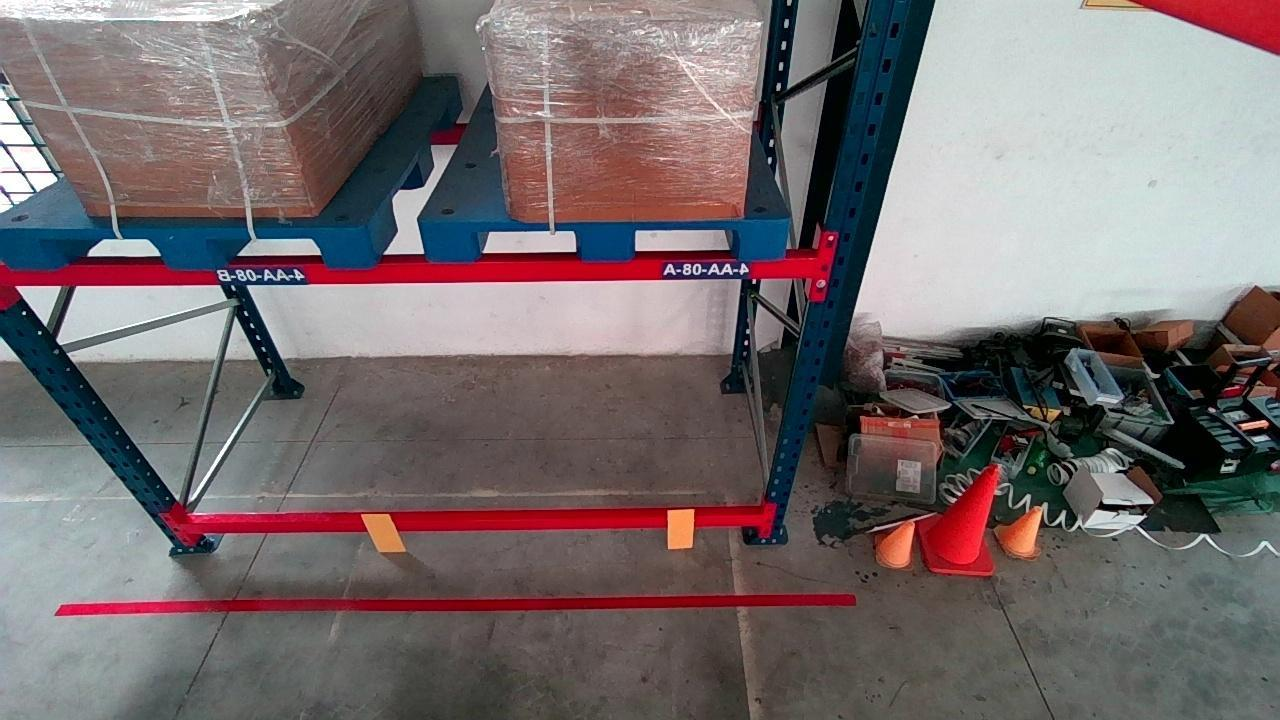h_rack: (186, 510, 761, 538)
orange_strip: (363, 511, 405, 552), (666, 506, 697, 549)
red_line: (53, 587, 857, 617)
small_pallet: (10, 224, 372, 269), (428, 218, 788, 261)
